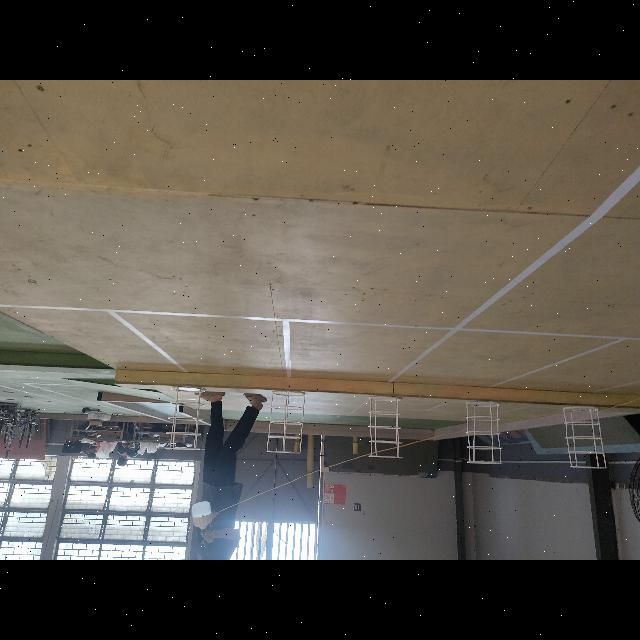S: (558, 402, 608, 472), (459, 396, 505, 469), (162, 384, 204, 454), (264, 388, 306, 452), (367, 393, 405, 462)
